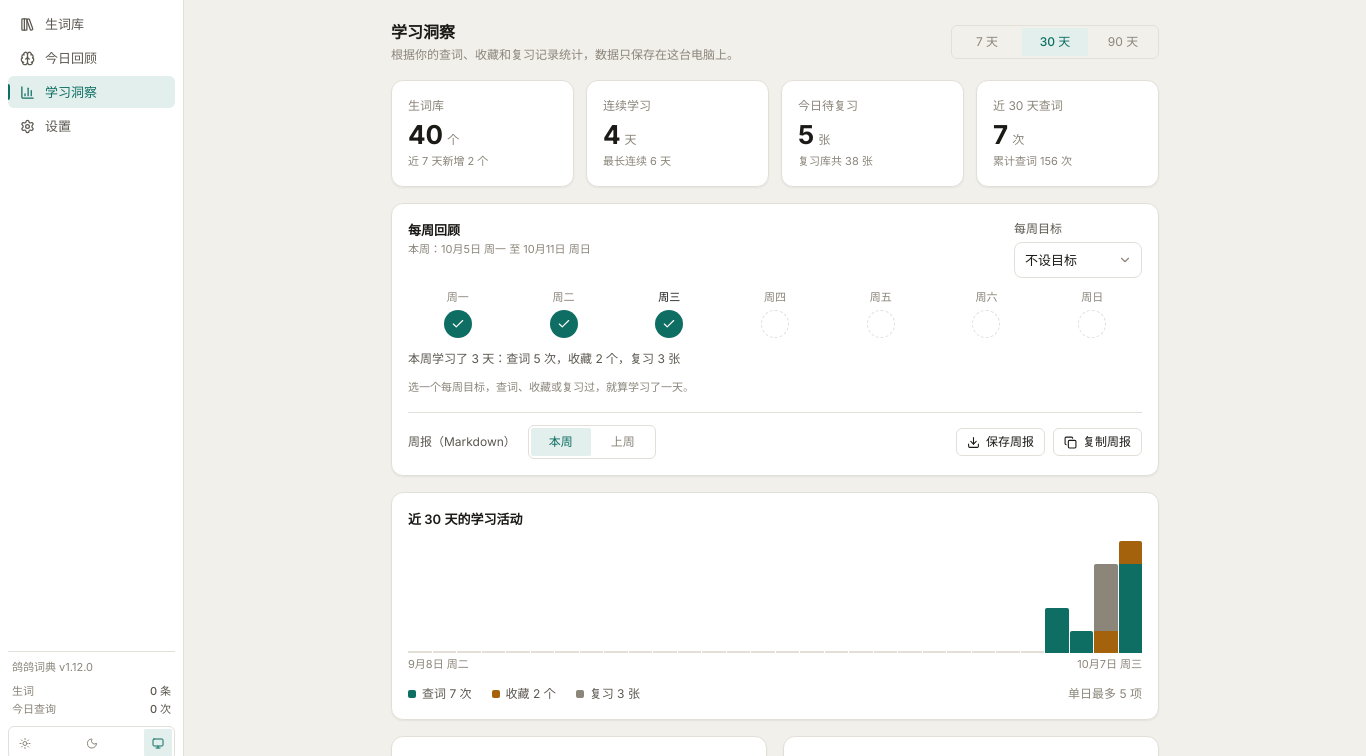
Test: the learning-insights page › saves the report from the last 14 days, whatever range the page is showing
Expected: the element "生词库" is shown, top-left (391, 80), bottom-right (574, 187)
Click the radio button labelled "90 天". click: {"x": 1123, "y": 42}
box: top-left (1090, 28), bottom-right (1156, 56)
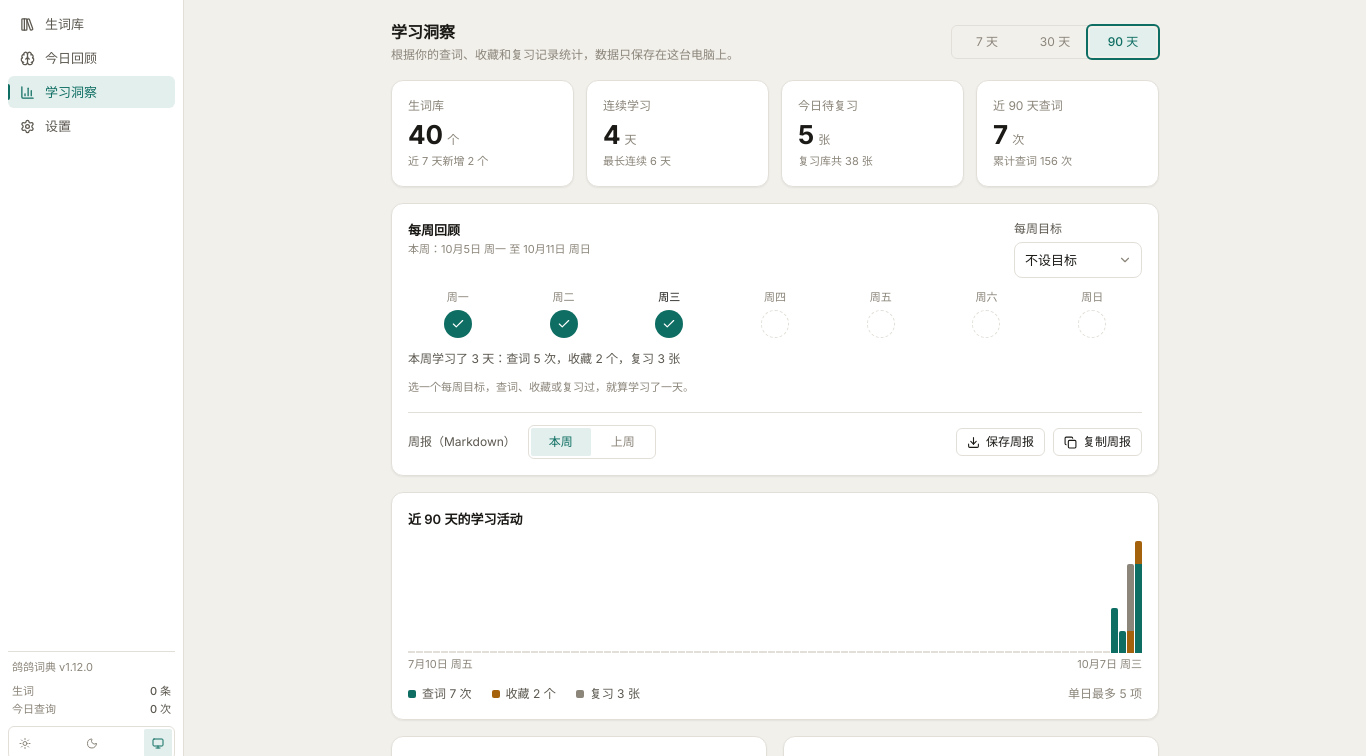
Expected: the element "近 90 天的学习活动" is shown, top-left (391, 492), bottom-right (1159, 720)
Click the button "保存周报". click: {"x": 1000, "y": 442}
box: top-left (956, 428), bottom-right (1045, 456)
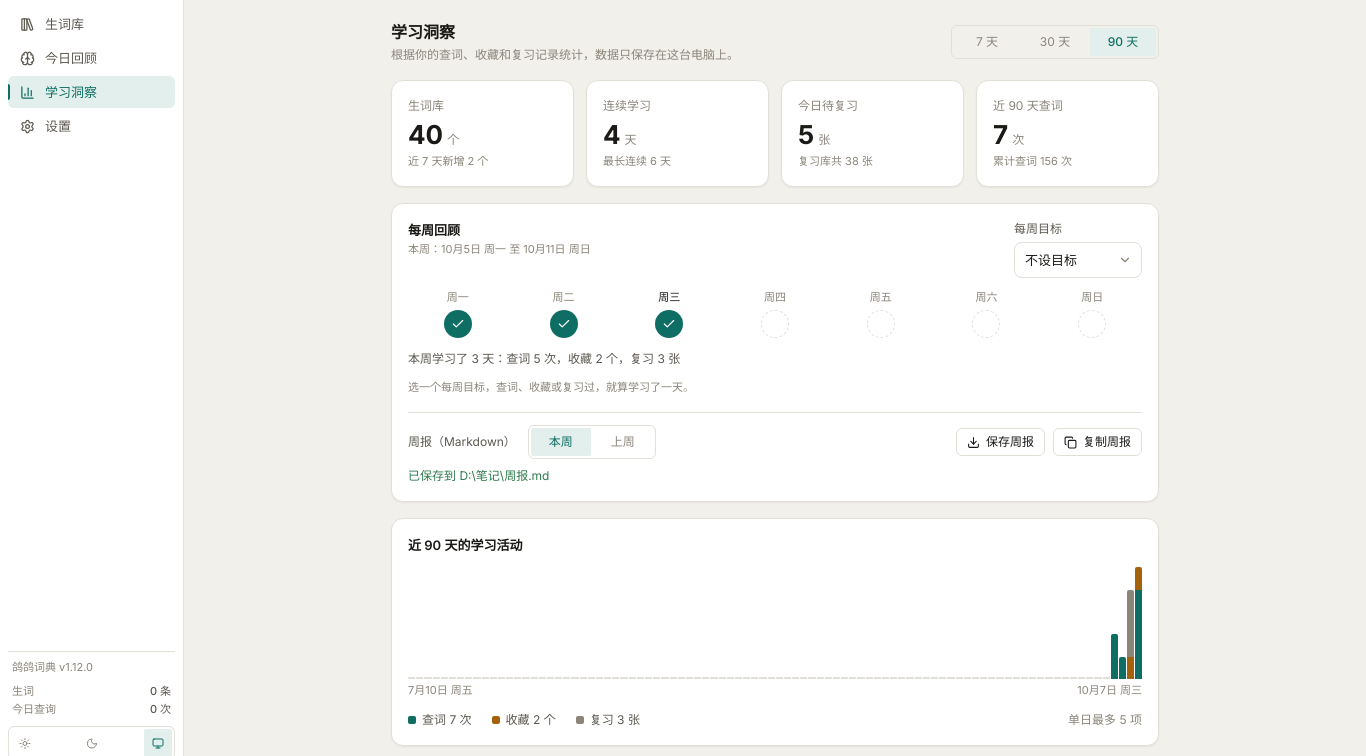
Expected: the element "近 90 天的学习活动" is shown, top-left (391, 518), bottom-right (1159, 746)
Expected: the text "已保存到 D:\\笔记\\周报.md" is shown, top-left (408, 468), bottom-right (550, 483)
